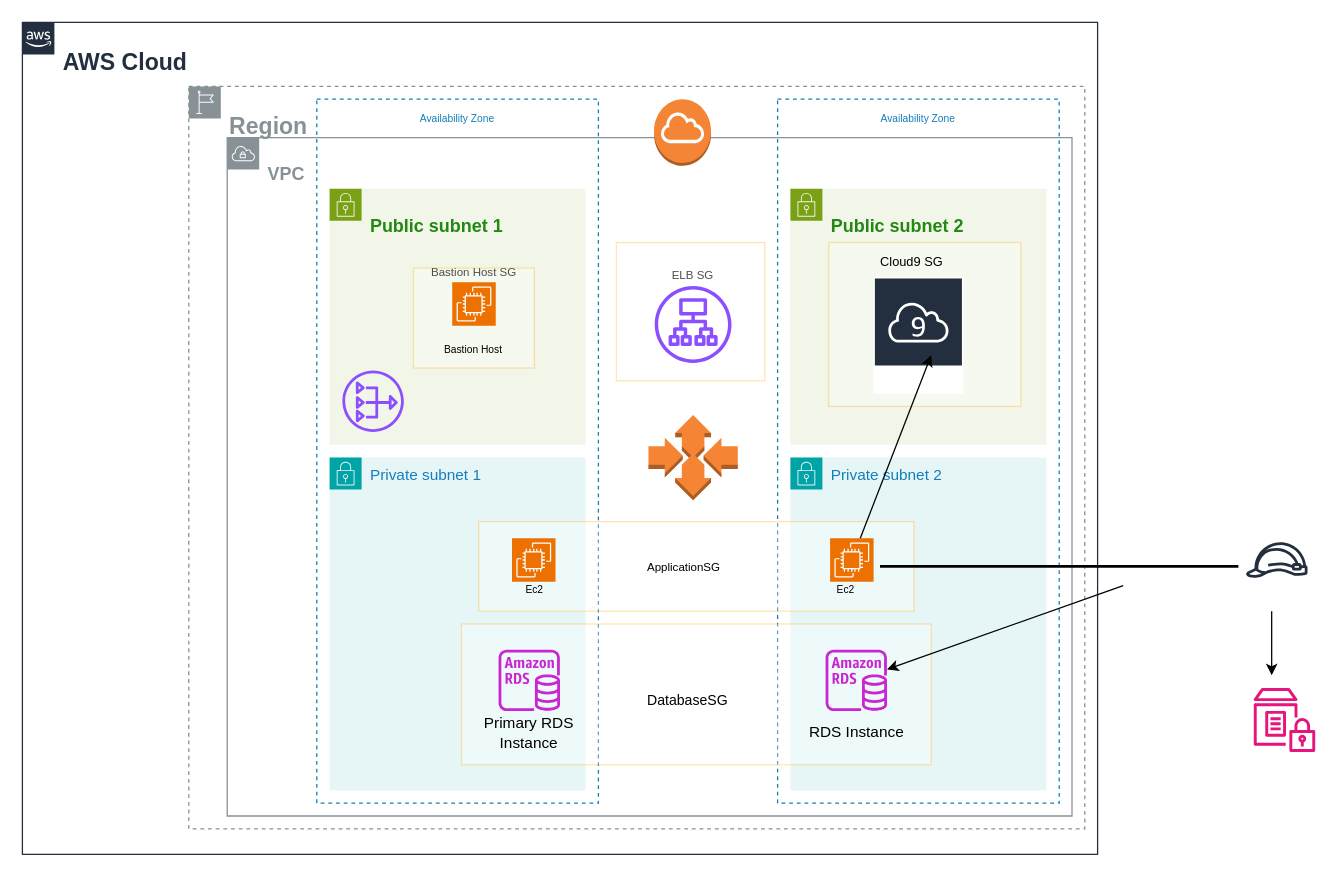
Some shapes in this 1338 by 877 pixel diagram are drawn without their labels. Here are the shapes that lost their labels. From the top down, the centre of each, then its label:
point (917, 335): AWS Cloud9
point (1276, 559): Role
